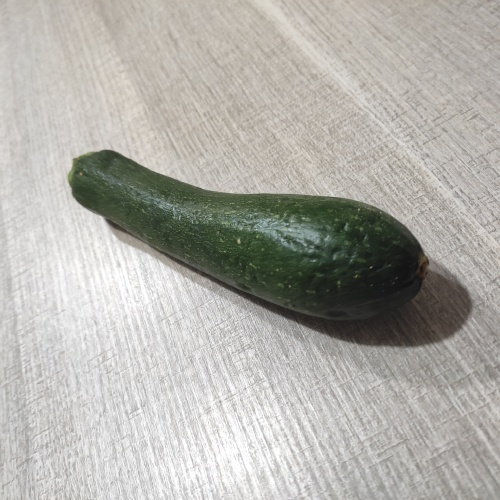zucchine: (76, 153, 428, 326)
